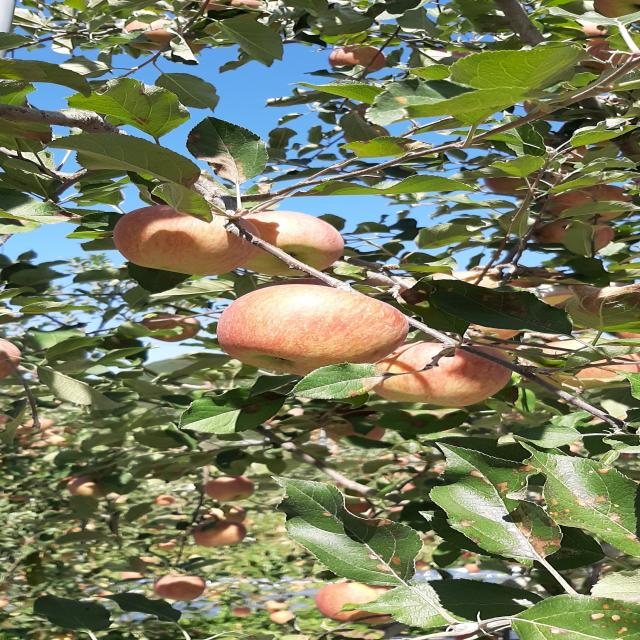fresh: (205, 278, 422, 387)
